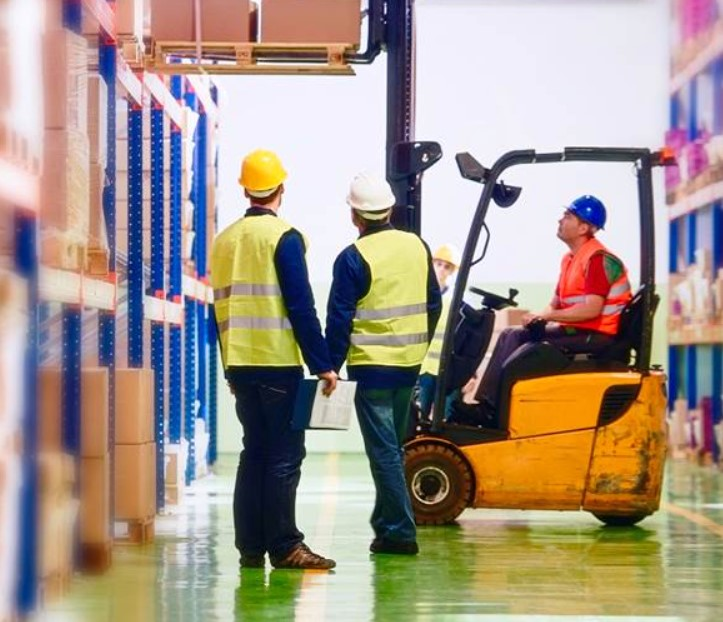worker: (214, 150, 309, 366), (345, 173, 429, 367), (553, 196, 628, 333)
